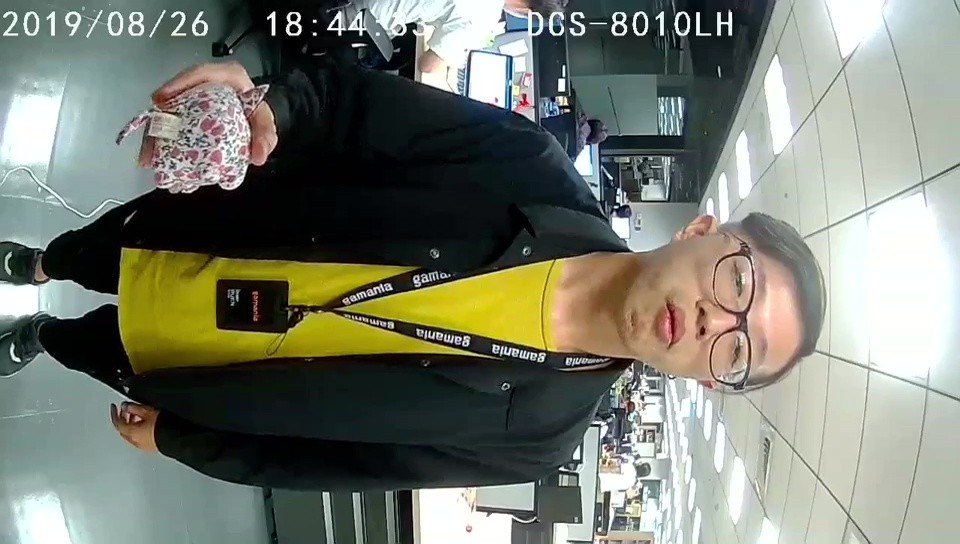pig: (145, 80, 272, 196)
